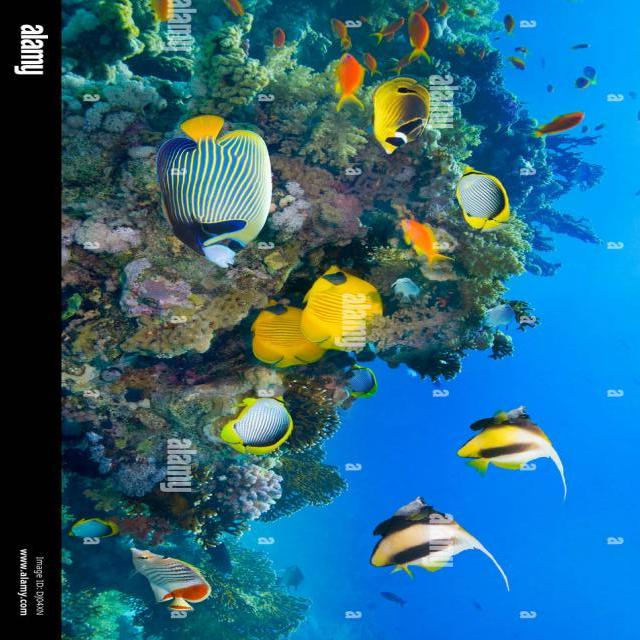ButterflyFish: (153, 115, 277, 270), (299, 262, 379, 376), (366, 73, 432, 151), (126, 554, 210, 614), (218, 399, 299, 455), (453, 167, 508, 233), (65, 517, 116, 543)
GoldFish: (396, 218, 442, 267), (331, 53, 366, 114), (405, 12, 427, 65)
